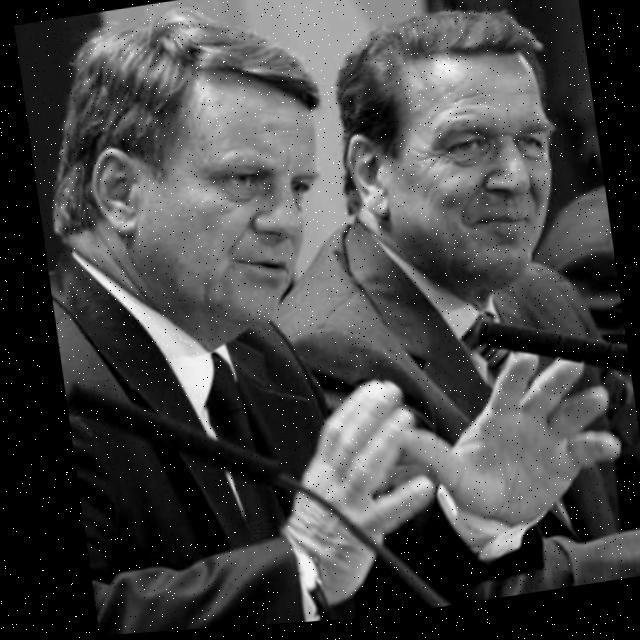face: (49, 21, 348, 382), (327, 32, 588, 337)
